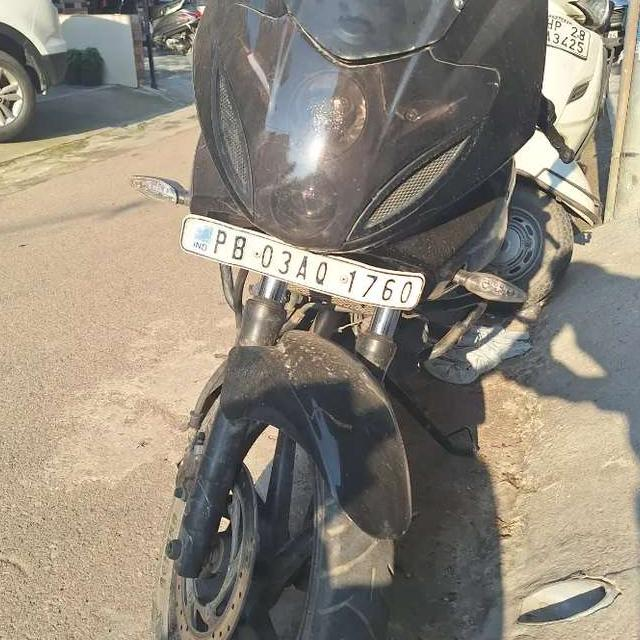Indian_Number_Plate: (180, 217, 428, 311)
